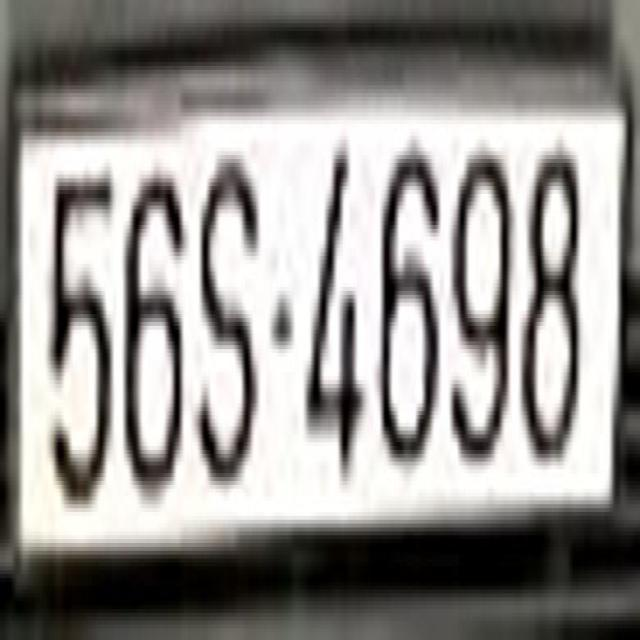4: (301, 109, 366, 528)
5: (46, 104, 112, 520)
6: (376, 100, 444, 497), (117, 120, 185, 516)
8: (518, 89, 580, 493)
9: (446, 108, 512, 500)
S: (193, 108, 260, 500)
